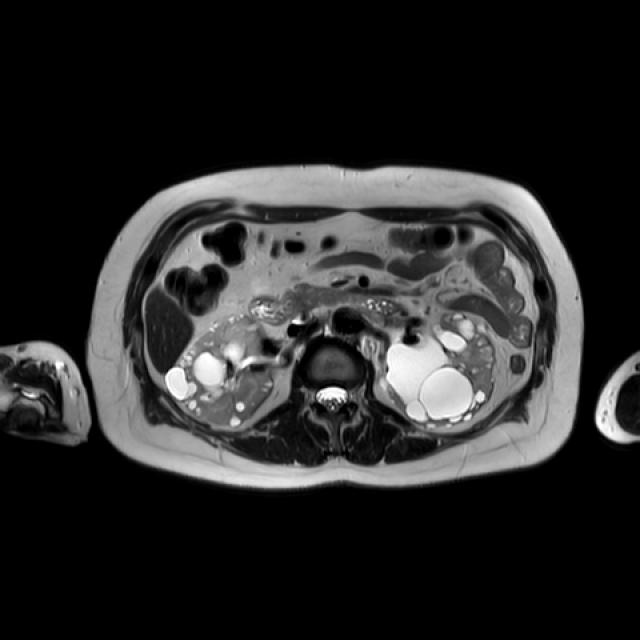sag: (164, 313, 280, 428)
sol: (380, 310, 496, 429)
